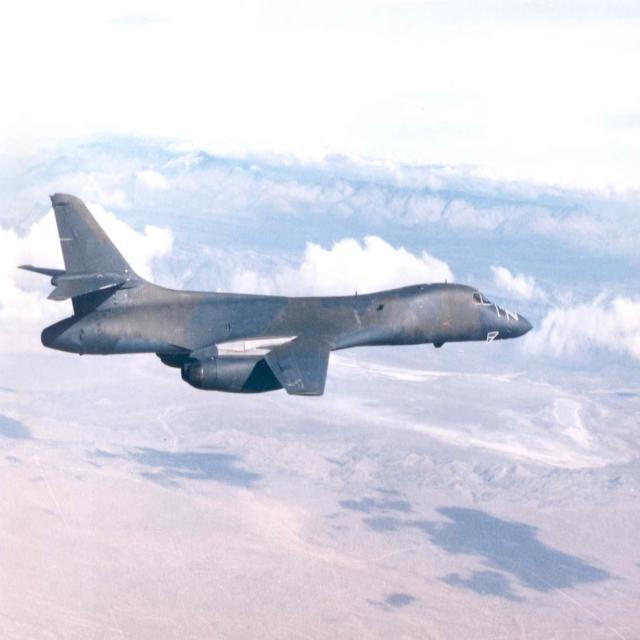B1: (8, 174, 540, 438)
